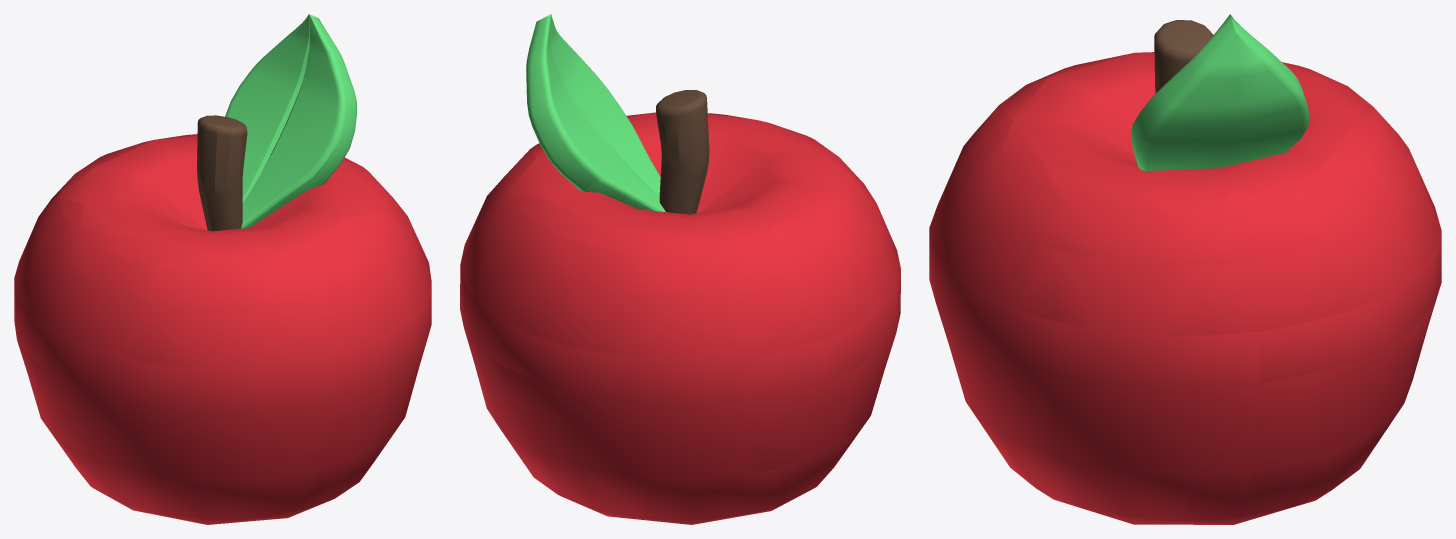
Rendered from apple.glb.
3 renders of one model, left to right at view 1: azimuth 30°, elevation 25°; view 2: azimuth 150°, elevation 25°; view 3: azimuth 270°, elevation 25°, orthographic. The views are drawn at different scales.
Visible parts, largest first — view 1: Apple; view 2: Apple; view 3: Apple.
Boxes of the visible parts, x1,y1,x2,y2 form: Apple: (14,14,431,524); Apple: (460,14,900,524); Apple: (929,14,1441,524).
Size of the model in its own units: 0.6431 by 0.7193 by 0.6486.
